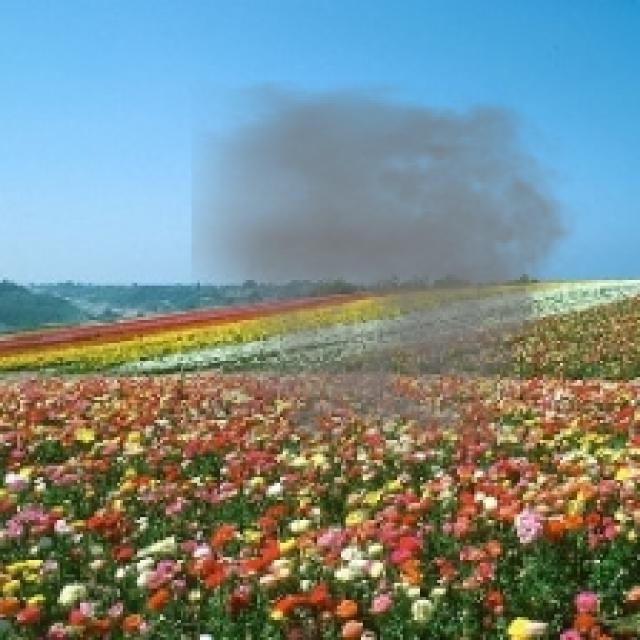Smoke: (192, 80, 592, 454)
